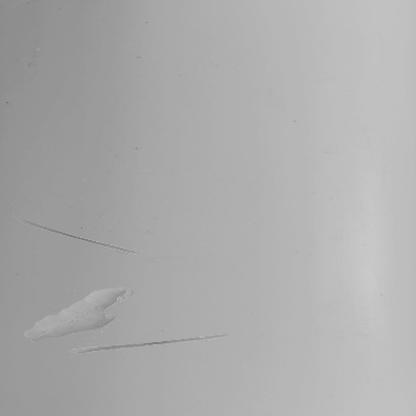sunshang: (19, 289, 125, 345), (25, 219, 136, 254), (75, 333, 225, 358)
